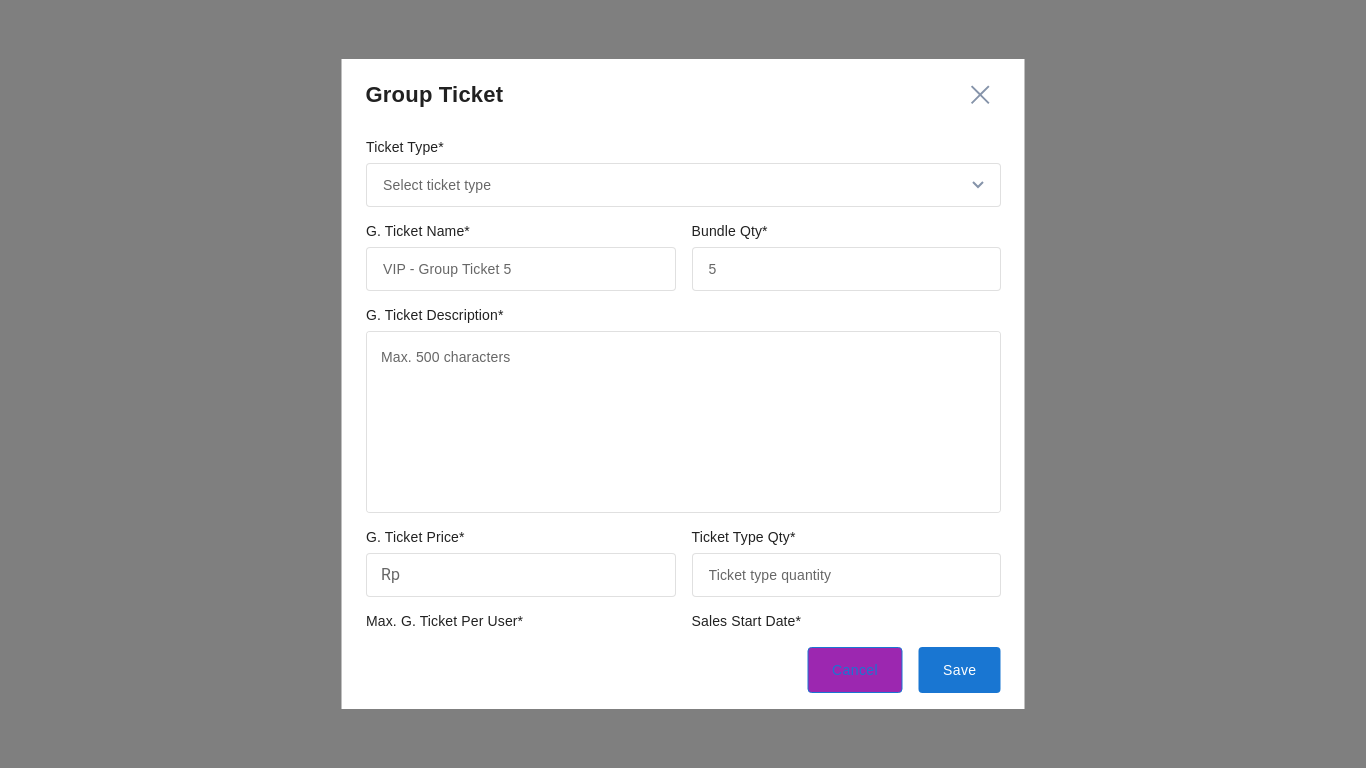
Test case: GroupTicketCreateModal › validates required fields
Click the button "Save". click: [960, 670]
box: [919,647,1000,693]
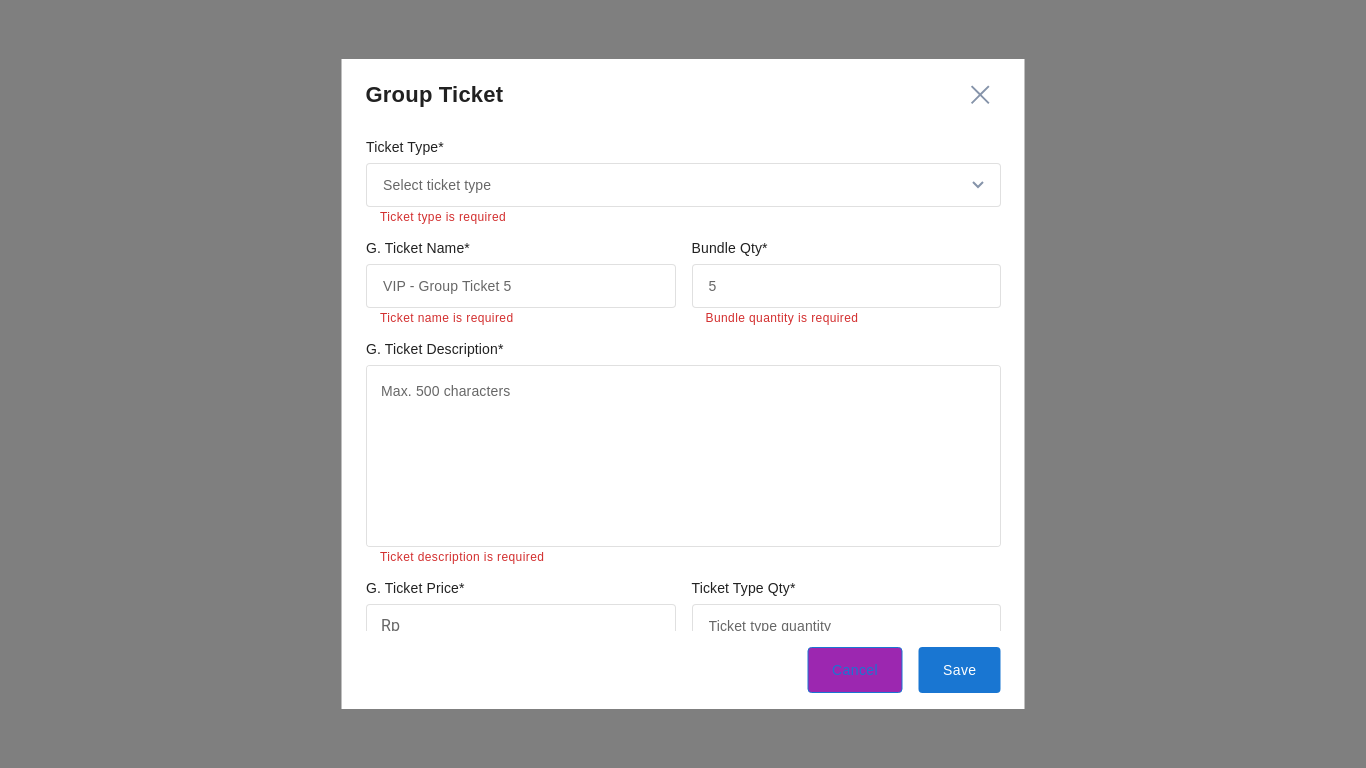
Expected: the text "Ticket name is required" is shown, [380,311,513,325]
